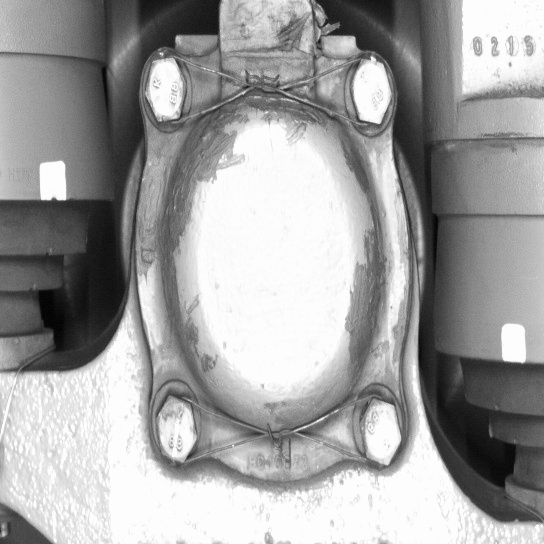IronWire: (147, 389, 407, 471), (140, 51, 399, 132)
Screw: (343, 54, 399, 132), (147, 388, 202, 467), (354, 391, 406, 471), (140, 52, 192, 131)
